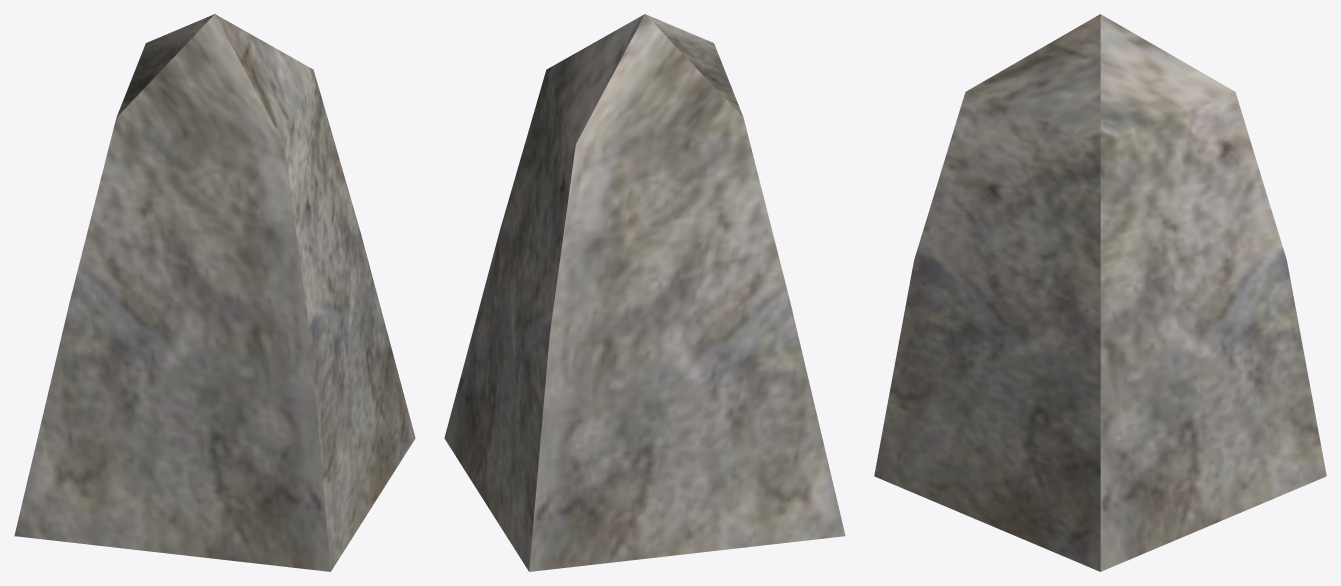
The model's file is stone3.obj.
3 renders of one model, left to right at view 1: azimuth 30°, elevation 25°; view 2: azimuth 150°, elevation 25°; view 3: azimuth 270°, elevation 25°, orthographic. The views are drawn at different scales.
Parts seen in each view (by area): view 1: a1, a2, a4; view 2: a4, a3, a1; view 3: a2, a3.
Part boxes in pixels (x1=…): a1: x1=14, y1=14, x2=330, y2=571; a2: x1=215, y1=14, x2=415, y2=571; a4: x1=116, y1=14, x2=214, y2=117; a4: x1=529, y1=14, x2=845, y2=571; a3: x1=444, y1=14, x2=644, y2=571; a1: x1=645, y1=14, x2=743, y2=117; a2: x1=874, y1=14, x2=1100, y2=571; a3: x1=1100, y1=14, x2=1326, y2=571.
Bounding box in the file's own units: 61 × 68.75 × 61.
Materials: 1 (1 with a texture image).
